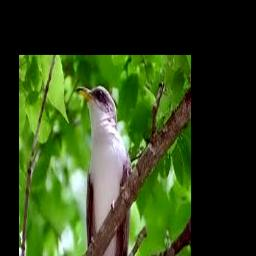Cuckoo: (77, 84, 132, 256)
